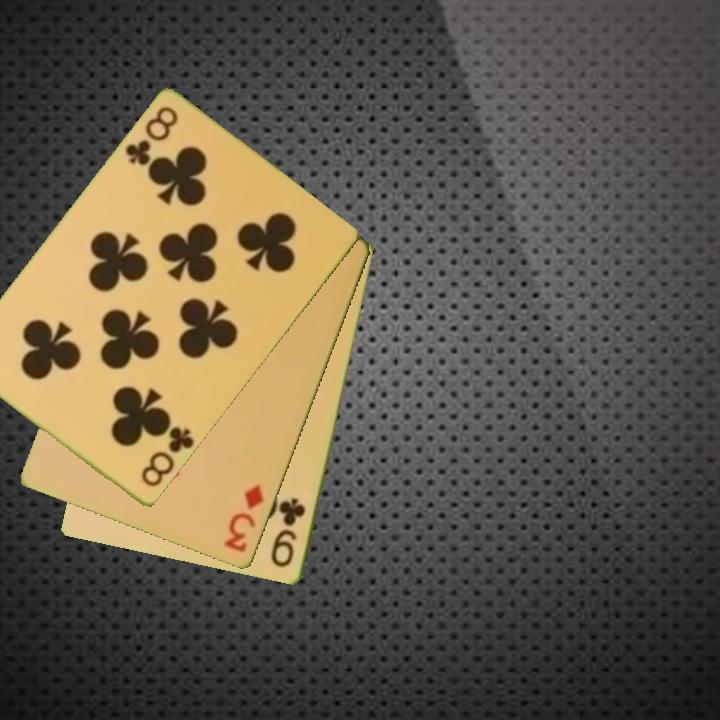3d: (220, 481, 267, 556)
8c: (137, 419, 197, 491), (121, 103, 181, 170)
9c: (268, 494, 309, 571)
